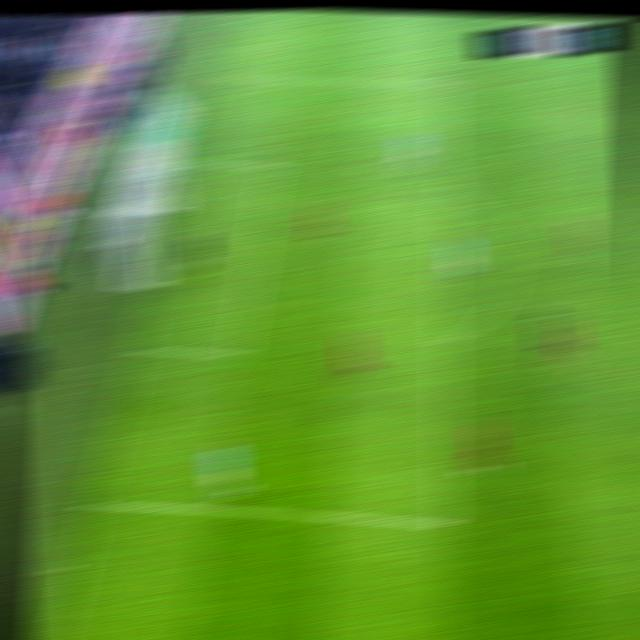bigarea_bottom_inner: (429, 507, 466, 535)
bigarea_bottom_outter: (80, 491, 113, 515)
bigarea_top_inner: (429, 72, 464, 95)
bigarea_top_outter: (197, 69, 228, 85)
bottom_arc_area_intersection: (429, 331, 463, 353)
smallarea_bottom_inner: (221, 337, 258, 367)
smallarea_bottom_outter: (121, 336, 156, 360)
smallarea_top_inner: (255, 155, 289, 177)
smallarea_top_outter: (173, 150, 206, 174)
top_arc_area_intersection: (430, 176, 464, 199)
